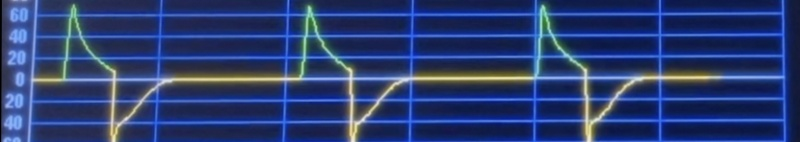normal_flow: (49, 2, 655, 142)
